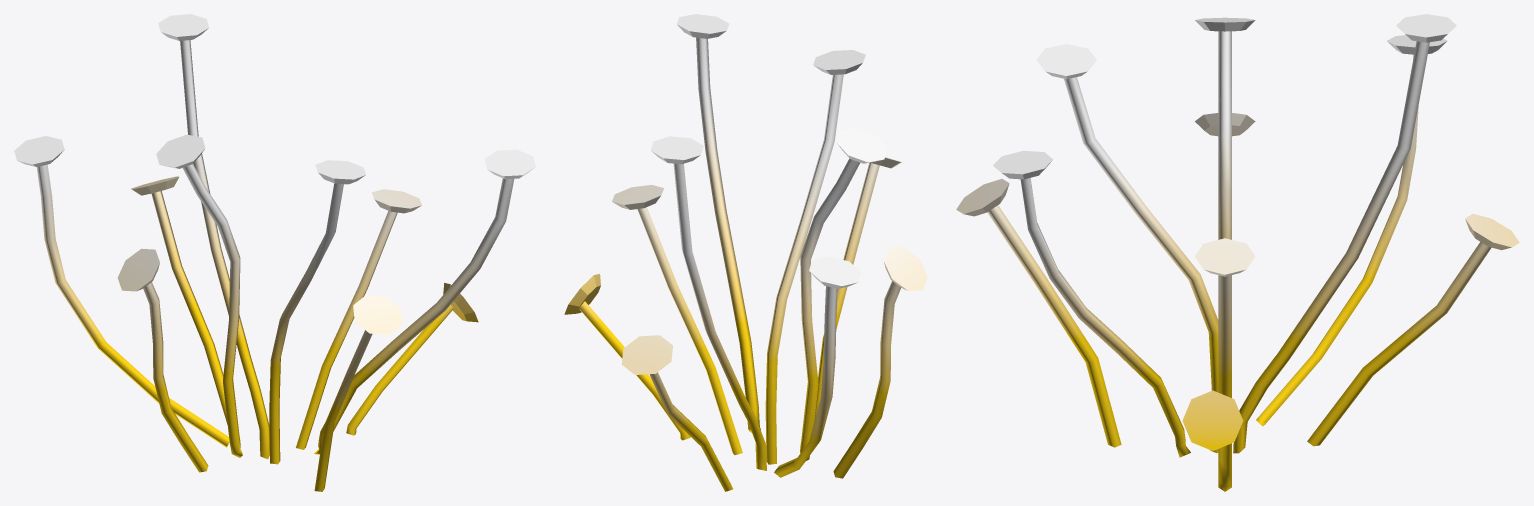
File: lightplant2.fbx
3 views of the same model, side by side, from view 1: azimuth 30°, elevation 25°; view 2: azimuth 150°, elevation 25°; view 3: azimuth 270°, elevation 25° (orthographic). The views are drawn at different scales.
Visible parts, largest first — view 1: Cube.009.frozen; view 2: Cube.009.frozen; view 3: Cube.009.frozen.
Boxes of the visible parts, x1=… form: Cube.009.frozen: x1=14, y1=14, x2=535, y2=491; Cube.009.frozen: x1=564, y1=14, x2=927, y2=491; Cube.009.frozen: x1=956, y1=14, x2=1519, y2=491.
Size of the model in its own units: 71.39 by 69.45 by 82.81.
Materials: 1 (1 with a texture image).
